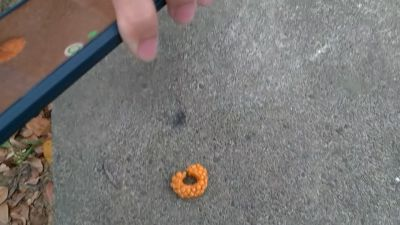eggs: (169, 162, 210, 200)
